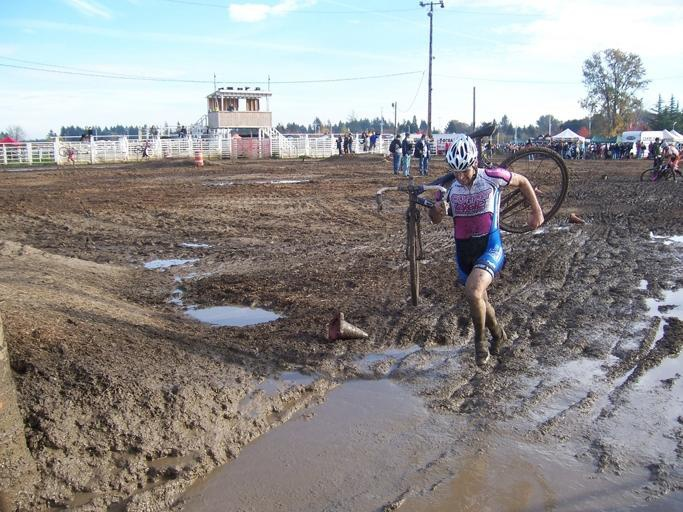non-vehicle: (373, 122, 570, 307), (637, 158, 676, 183), (132, 143, 154, 157), (57, 145, 77, 158)
